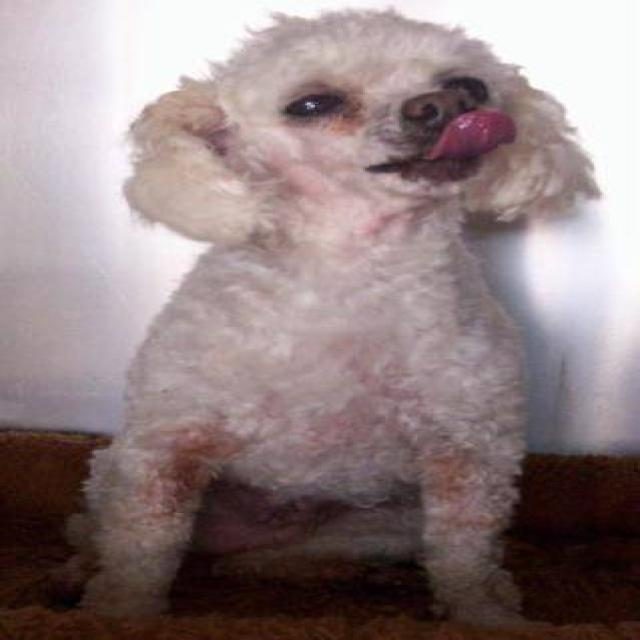dog: (48, 5, 616, 631)
